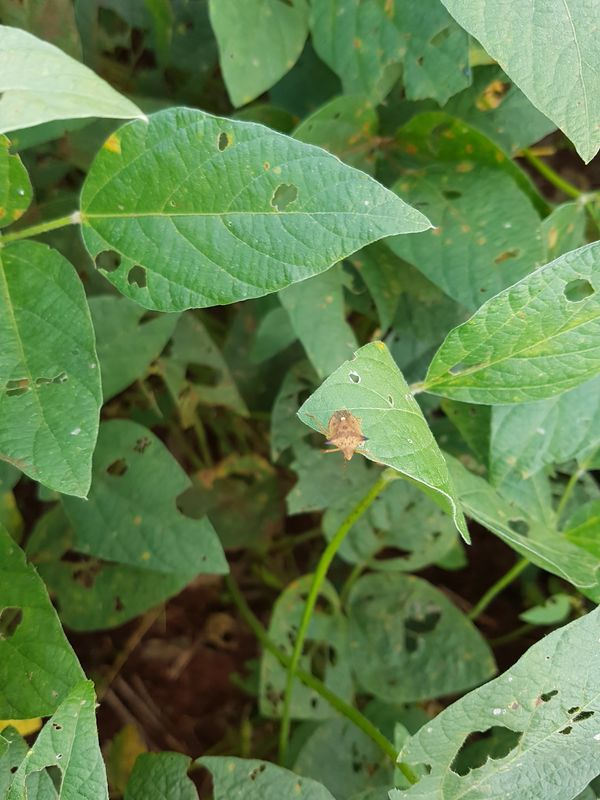Euschistus_heros_adulto: (313, 404, 378, 470)
